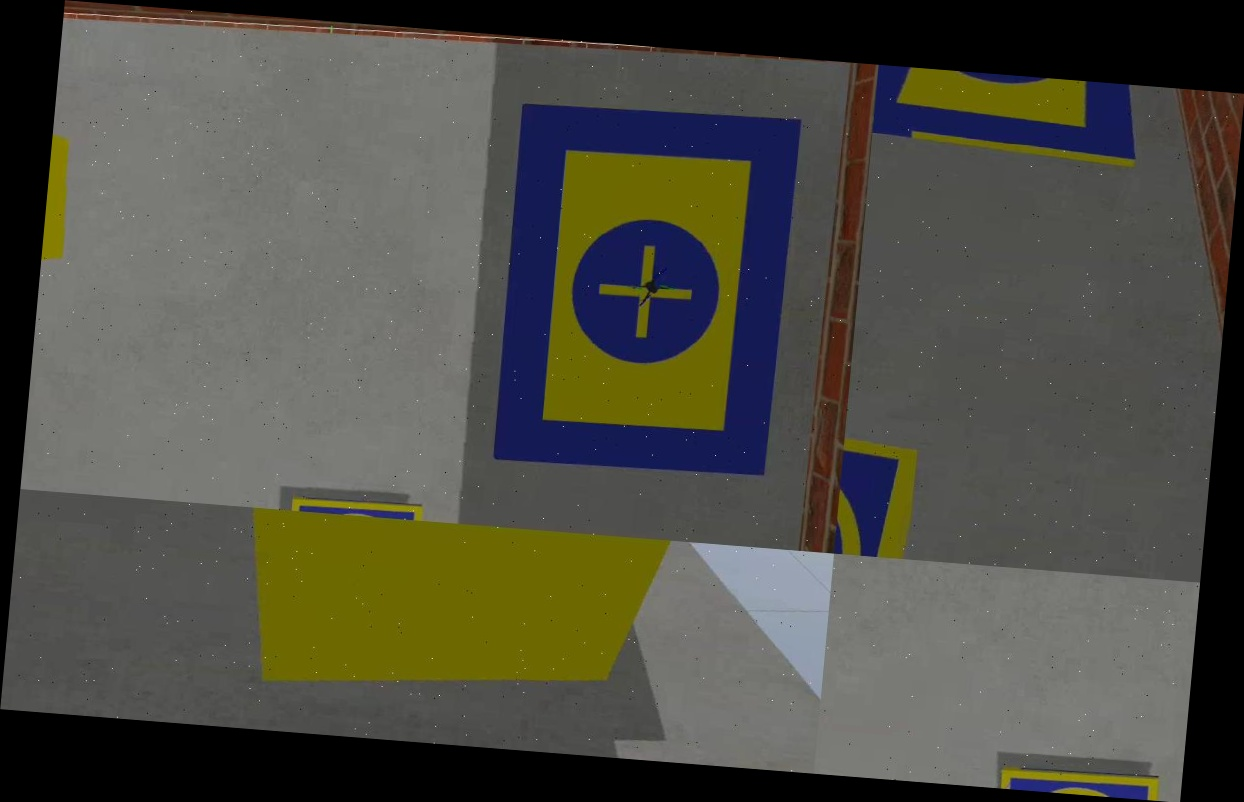large_base: (492, 95, 803, 483), (871, 65, 1140, 166)
small_base: (998, 764, 1162, 800)
